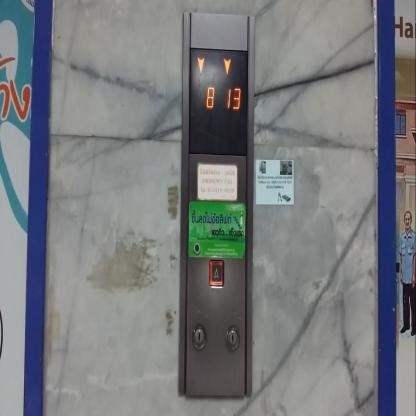keyhole: (225, 324, 240, 351), (192, 324, 206, 350)
led: (187, 46, 249, 157)
up: (208, 258, 225, 290)
